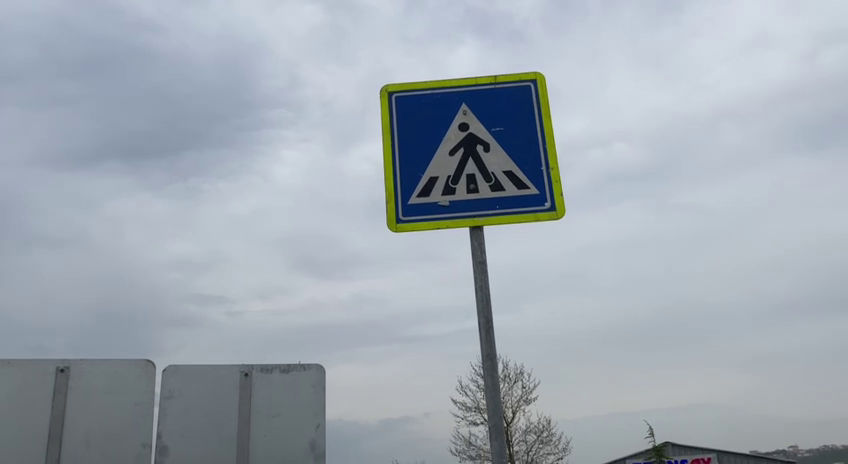pedestrianCrossing: (376, 70, 567, 233)
